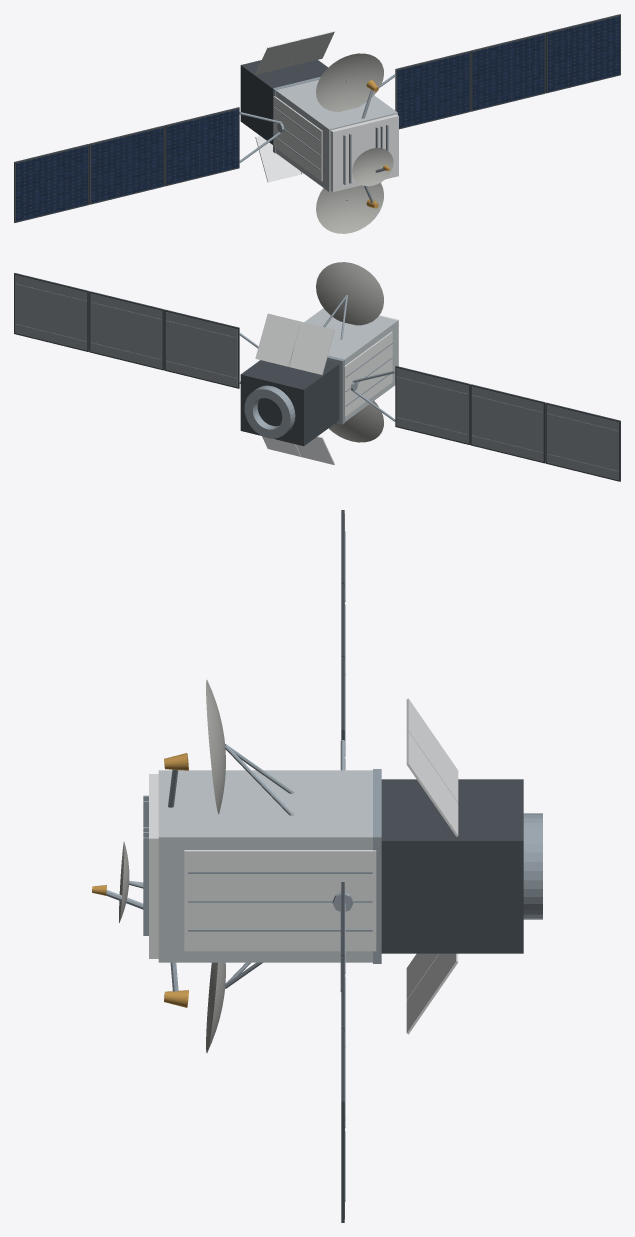
The model's file is ref-ssl-1300ll-37933.glb.
3 views of the same model, one above another, from view 1: azimuth 30°, elevation 25°; view 2: azimuth 150°, elevation 25°; view 3: azimuth 270°, elevation 25° (orthographic). The views are drawn at different scales.
Visible parts, largest first — view 1: Solar cell panel (×6), Communications reflector (×2), Solar panel frame (×6), Payload module, Service module, Earth-facing deck, Deployed radiator leaf (×3), Radiator face, Deck-mounted reflector; view 2: Rear array substrate (×6), Service module, Communications reflector (×2), Deployed radiator leaf (×4), Solar panel frame (×6), Payload module, Radiator face, Launch adapter ring, Module interface; view 3: Service module, Payload module, Radiator face, Deployed radiator leaf (×3), Communications reflector (×2), Launch adapter ring, Earth-facing deck, Module interface.
Boxes of the visible parts, x1,y1,x2,y2 form: Solar cell panel (×6): (16,16,619,221); Communications reflector (×2): (316,53,383,233); Solar panel frame (×6): (14,14,620,222); Payload module: (275,79,397,191); Service module: (240,60,327,144); Earth-facing deck: (330,114,398,191); Deployed radiator leaf (×3): (255,31,334,182); Radiator face: (273,96,322,181); Deck-mounted reflector: (352,148,393,186); Rear array substrate (×6): (15,275,618,480); Service module: (240,354,339,446); Communications reflector (×2): (316,262,383,442); Deployed radiator leaf (×4): (255,313,334,464); Solar panel frame (×6): (14,273,620,481); Payload module: (294,308,397,421); Radiator face: (344,331,392,416); Launch adapter ring: (244,385,295,438); Module interface: (293,350,344,424); Service module: (381,779,523,953); Payload module: (158,770,372,962); Radiator face: (184,850,376,951); Deployed radiator leaf (×3): (406,698,458,1034); Communications reflector (×2): (206,680,225,1052); Launch adapter ring: (523,813,542,919); Earth-facing deck: (149,774,158,958); Module interface: (373,769,381,963).
Size of the model in its own units: 24.67 by 6.93 by 7.95.
Materials: 8 (1 with a texture image).
